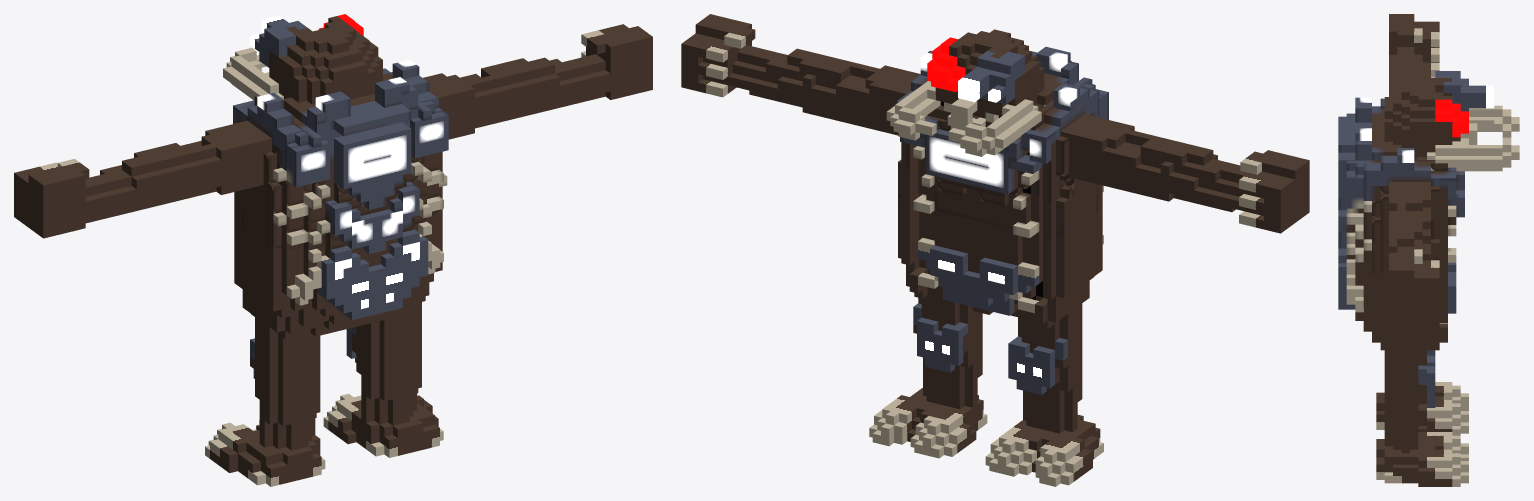
The model's file is Noobcon.dae.
3 views of the same model, side by side, from view 1: azimuth 30°, elevation 25°; view 2: azimuth 150°, elevation 25°; view 3: azimuth 270°, elevation 25° (orthographic). The views are drawn at different scales.
Visible parts, largest first — view 1: Chest-local, Waist-local, RLeg-local, LLeg-local, Head-local, RWrist-local, LWrist-local, RArm-local, LArm-local; view 2: Waist-local, Chest-local, Head-local, RLeg-local, LLeg-local, RWrist-local, LWrist-local, RArm-local, LArm-local; view 3: Chest-local, Head-local, LLeg-local, Waist-local, LWrist-local, RWrist-local, RLeg-local, LArm-local, RArm-local.
Boxes of the visible parts, bbox=[...] form: Chest-local: bbox=[233, 59, 448, 250]; Waist-local: bbox=[234, 161, 443, 339]; RLeg-local: bbox=[205, 298, 325, 486]; LLeg-local: bbox=[323, 302, 443, 457]; Head-local: bbox=[223, 14, 382, 103]; RWrist-local: bbox=[14, 143, 195, 238]; LWrist-local: bbox=[481, 24, 652, 117]; RArm-local: bbox=[158, 120, 281, 203]; LArm-local: bbox=[423, 66, 525, 139]; Waist-local: bbox=[898, 160, 1103, 328]; Chest-local: bbox=[896, 46, 1108, 238]; Head-local: bbox=[886, 29, 1044, 156]; RLeg-local: bbox=[985, 292, 1103, 486]; LLeg-local: bbox=[869, 295, 987, 458]; RWrist-local: bbox=[1135, 138, 1309, 233]; LWrist-local: bbox=[681, 14, 854, 117]; RArm-local: bbox=[1060, 114, 1179, 199]; LArm-local: bbox=[811, 56, 947, 135]; Chest-local: bbox=[1338, 97, 1464, 273]; Head-local: bbox=[1384, 71, 1519, 171]; LLeg-local: bbox=[1376, 327, 1468, 486]; Waist-local: bbox=[1338, 190, 1456, 350]; LWrist-local: bbox=[1389, 214, 1439, 316]; RWrist-local: bbox=[1389, 14, 1439, 89]; RLeg-local: bbox=[1376, 350, 1468, 435]; LArm-local: bbox=[1389, 182, 1430, 232]; RArm-local: bbox=[1389, 75, 1414, 96].
Bounding box in the file's own units: 72 × 46.5 × 21.5.
